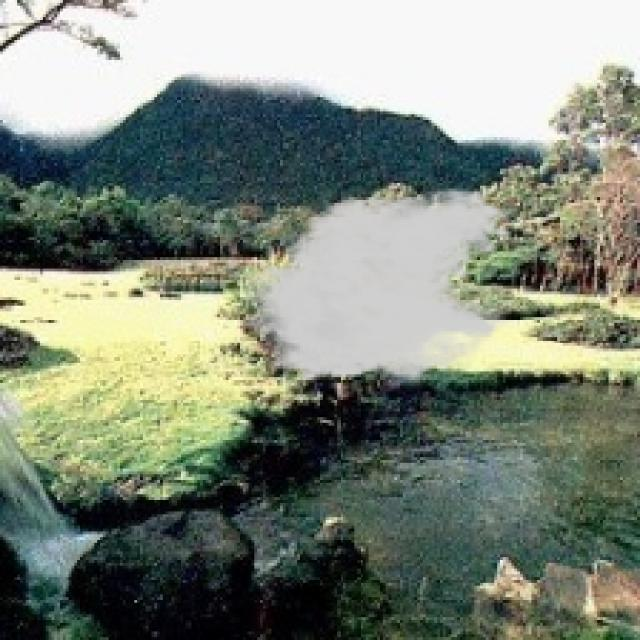smoke: (232, 186, 514, 394)
